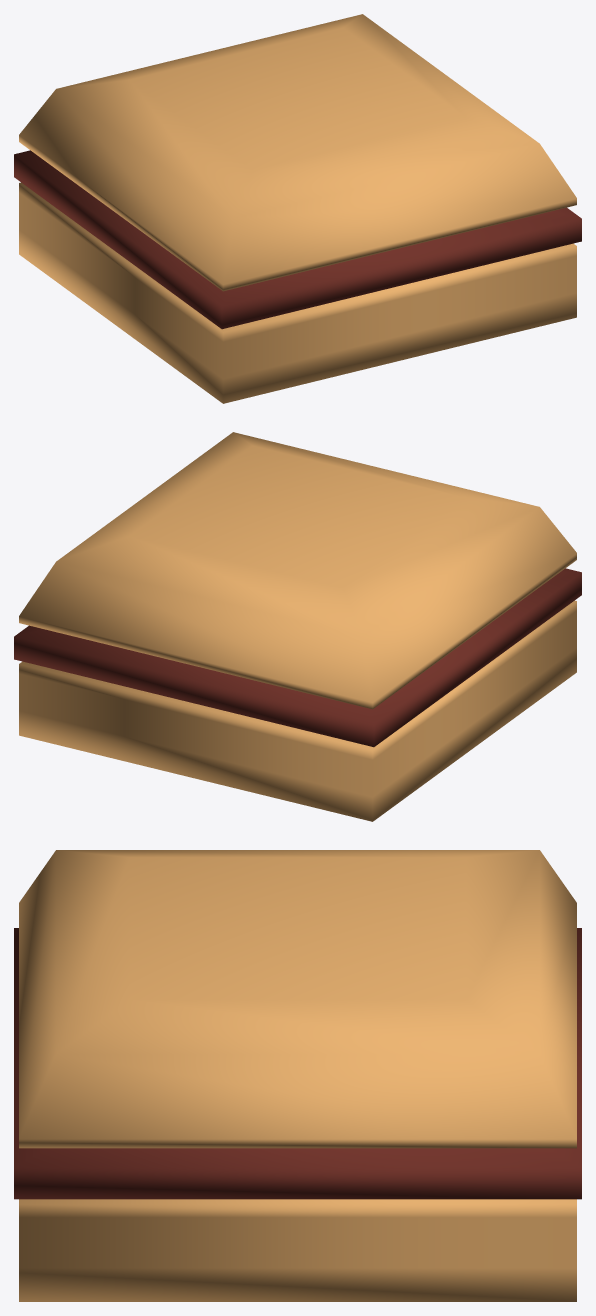
Rendered from hamburger.glb.
The picture shows the model from 3 angles, top to bottom: view 1: azimuth 30°, elevation 25°; view 2: azimuth 150°, elevation 25°; view 3: azimuth 270°, elevation 25°; orthographic projection. The views are drawn at different scales.
Visible parts, largest first — view 1: Cube.002, Cube, Cube.001; view 2: Cube.002, Cube, Cube.001; view 3: Cube.002, Cube, Cube.001.
Part boxes in pixels (<box>): Cube.002: <box>19,14,576,291</box>; Cube: <box>19,182,576,403</box>; Cube.001: <box>14,150,581,329</box>; Cube.002: <box>19,432,576,709</box>; Cube: <box>19,600,576,821</box>; Cube.001: <box>14,568,581,747</box>; Cube.002: <box>19,850,576,1148</box>; Cube: <box>19,1199,576,1301</box>; Cube.001: <box>14,928,581,1199</box>.
Size of the model in its own units: 10.27 by 5.09 by 10.27.
